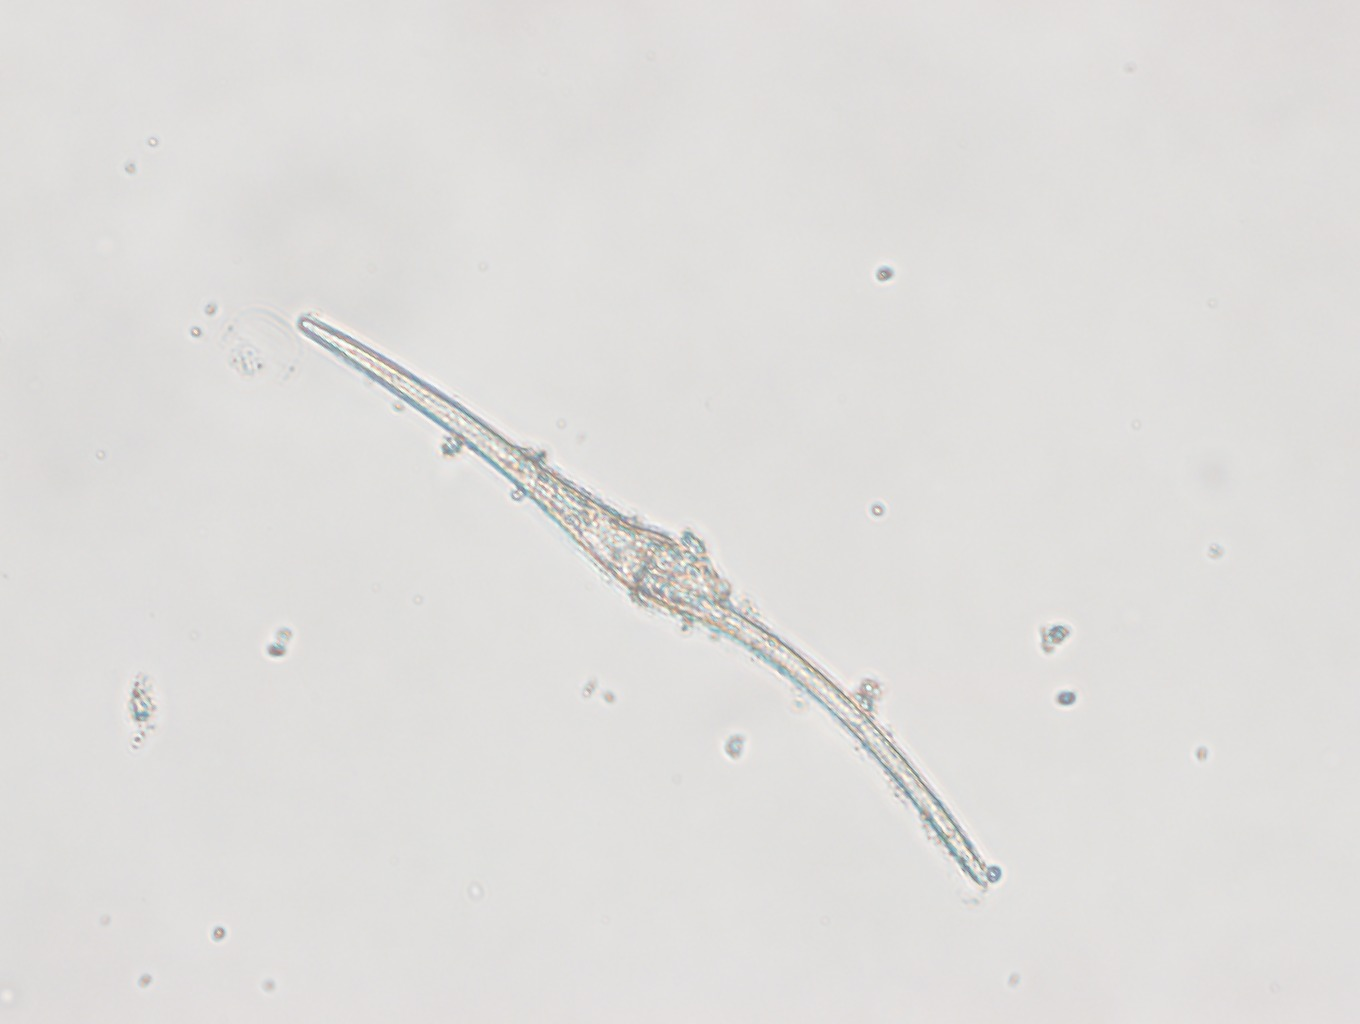ceratium fusus: (296, 315, 991, 884)
